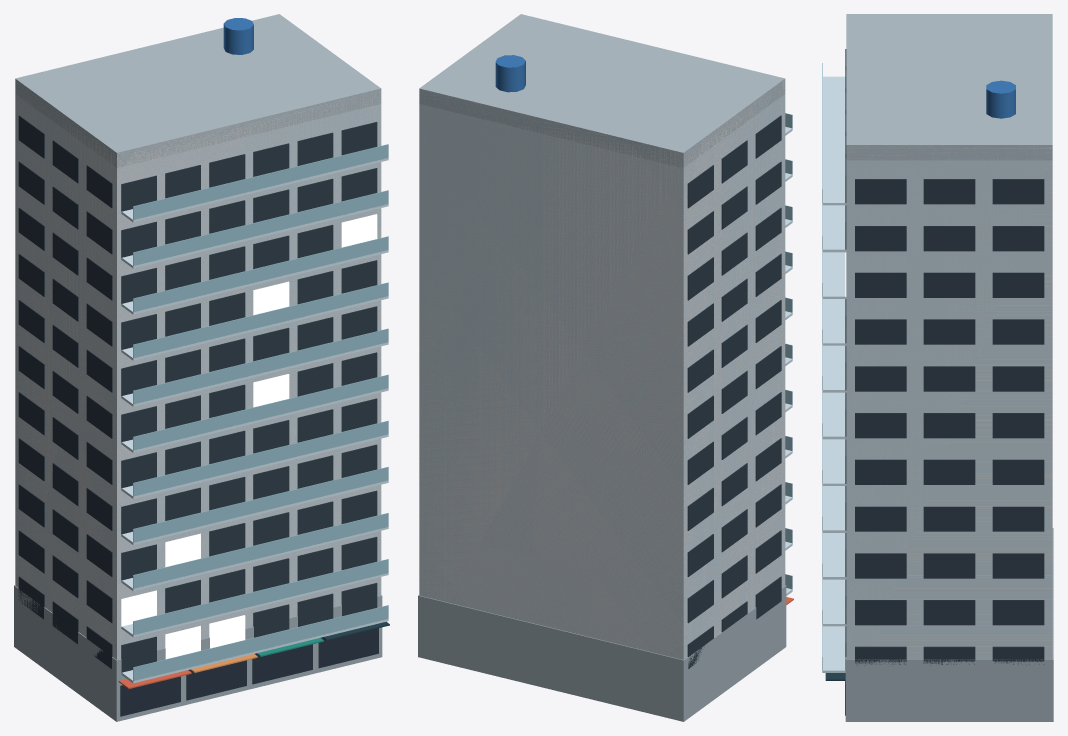
Rendered from edificio_playa_azul.glb.
The picture shows the model from 3 angles, left to right: view 1: azimuth 30°, elevation 25°; view 2: azimuth 150°, elevation 25°; view 3: azimuth 270°, elevation 25°; orthographic projection.
Parts seen in each view (by area): view 1: edificio_playa_azul_Malla, COL_0; view 2: edificio_playa_azul_Malla, COL_0; view 3: edificio_playa_azul_Malla, COL_0.
Part boxes in pixels (x1,y1,x2,y2): edificio_playa_azul_Malla: [14, 14, 389, 721]; COL_0: [15, 80, 381, 659]; edificio_playa_azul_Malla: [418, 14, 793, 721]; COL_0: [419, 79, 785, 659]; edificio_playa_azul_Malla: [822, 14, 1053, 721]; COL_0: [846, 145, 1052, 657].
Bounding box in the file's own units: 18.1 × 38.6 × 13.45.
